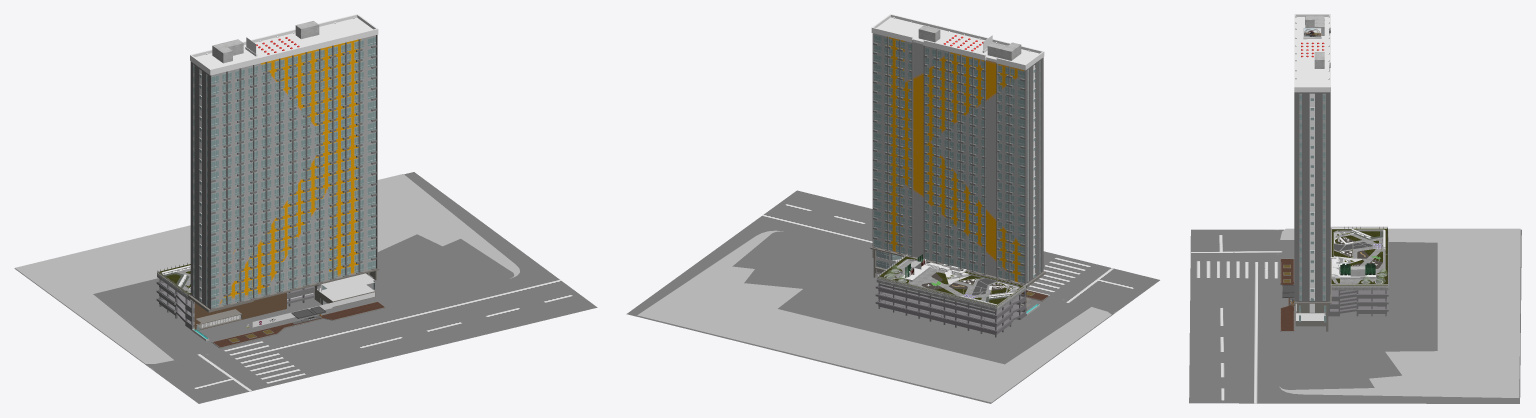
File: Apartment.gltf
3 views of the same model, side by side, from view 1: azimuth 30°, elevation 25°; view 2: azimuth 150°, elevation 25°; view 3: azimuth 270°, elevation 25° (orthographic). The views are drawn at different scales.
Visible parts, largest first — view 1: tower_ground_1, Kamar_001, tower_ground_2, Tiang, Box001, Tiang_001, Parkiran_3, Trotoar, plane_1, base2_bawah_kanan_LOD1_1.003; view 2: tower_ground_1, tower_ground_2, Kamar_001, Tiang, Parkiran_3, Box001, Tiang_001, Base_004; view 3: tower_ground_1, tower_ground_2, Tiang, Box001, Parkiran_3, Base_004, Tiang_001, Kamar_001, Kamar_002, Trotoar, Dom_Pojok001.001.
Part boxes in pixels (bbox=[...]): tower_ground_1: bbox=[14, 172, 597, 403]; Kamar_001: bbox=[193, 35, 375, 307]; tower_ground_2: bbox=[15, 174, 519, 363]; Tiang: bbox=[191, 39, 362, 308]; Box001: bbox=[190, 14, 378, 75]; Tiang_001: bbox=[190, 35, 377, 309]; Parkiran_3: bbox=[156, 279, 320, 330]; Trotoar: bbox=[211, 301, 385, 348]; plane_1: bbox=[194, 292, 286, 330]; base2_bawah_kanan_LOD1_1.003: bbox=[317, 273, 374, 301]; tower_ground_1: bbox=[626, 190, 1159, 403]; tower_ground_2: bbox=[637, 230, 1111, 402]; Kamar_001: bbox=[874, 33, 1040, 282]; Tiang: bbox=[885, 36, 1042, 283]; Parkiran_3: bbox=[875, 283, 1026, 337]; Box001: bbox=[871, 14, 1044, 70]; Tiang_001: bbox=[872, 33, 1043, 284]; Base_004: bbox=[876, 261, 1027, 311]; tower_ground_1: bbox=[1189, 229, 1521, 403]; tower_ground_2: bbox=[1279, 228, 1520, 397]; Tiang: bbox=[1296, 30, 1330, 301]; Box001: bbox=[1294, 14, 1330, 92]; Parkiran_3: bbox=[1328, 237, 1388, 316]; Base_004: bbox=[1331, 230, 1388, 290]; Tiang_001: bbox=[1294, 92, 1330, 301]; Kamar_001: bbox=[1299, 93, 1325, 300]; Kamar_002: bbox=[1309, 93, 1314, 297]; Trotoar: bbox=[1280, 258, 1294, 331]; Dom_Pojok001.001: bbox=[1331, 255, 1387, 285].
Size of what is drawn, in the model's own units: 0.0895 by 0.061 by 0.0722.
